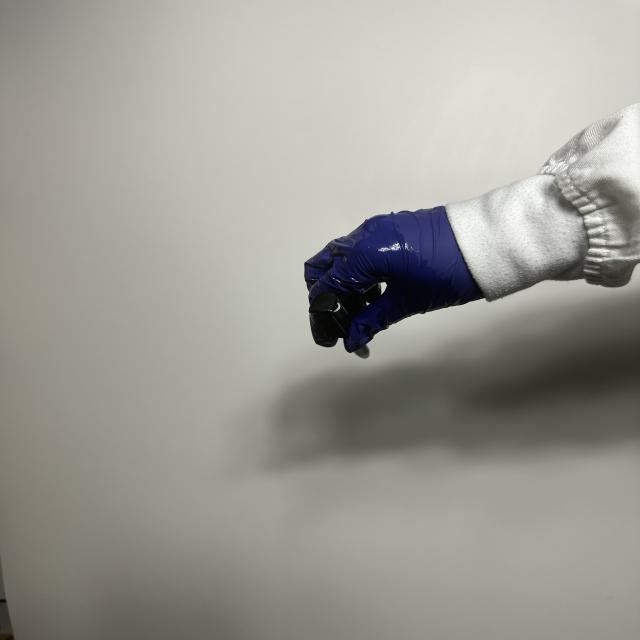gloves_contaminated: (305, 207, 483, 352)
